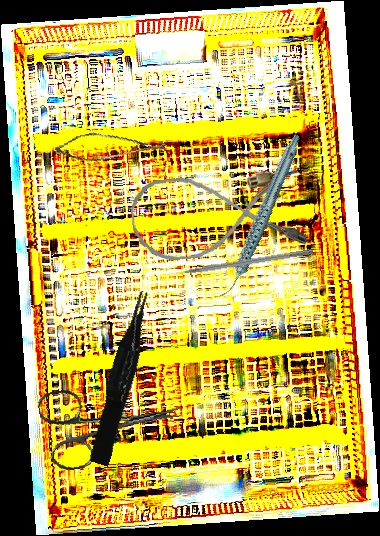Cannula: (128, 167, 308, 264)
Handpiece: (189, 133, 332, 301)
Hook Surgical: (159, 247, 314, 280)
Iris Scissors: (36, 370, 190, 474)
Micro Scissor: (53, 117, 168, 174)
Tissue Forceps: (82, 289, 163, 467)
